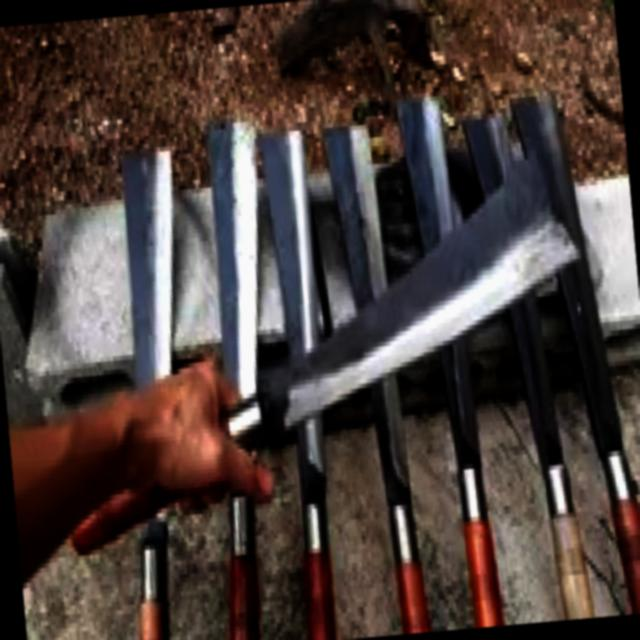eto: (205, 123, 259, 640)
